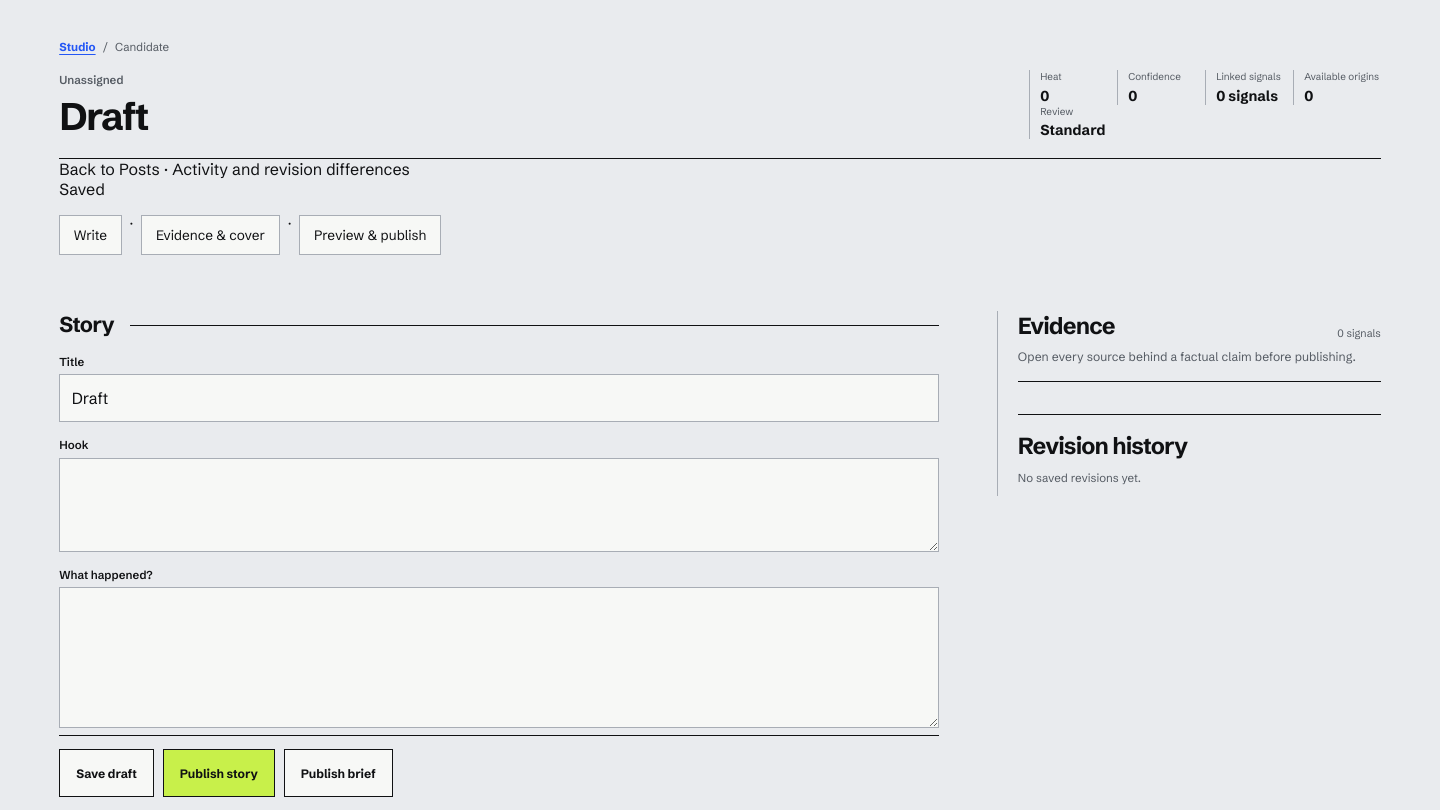
it: clears saved recovery and keeps publication errors in the editor
Step 1. Type "My writing" into the text box labelled "Hook" → x=499, y=505, box [59,458,939,552]
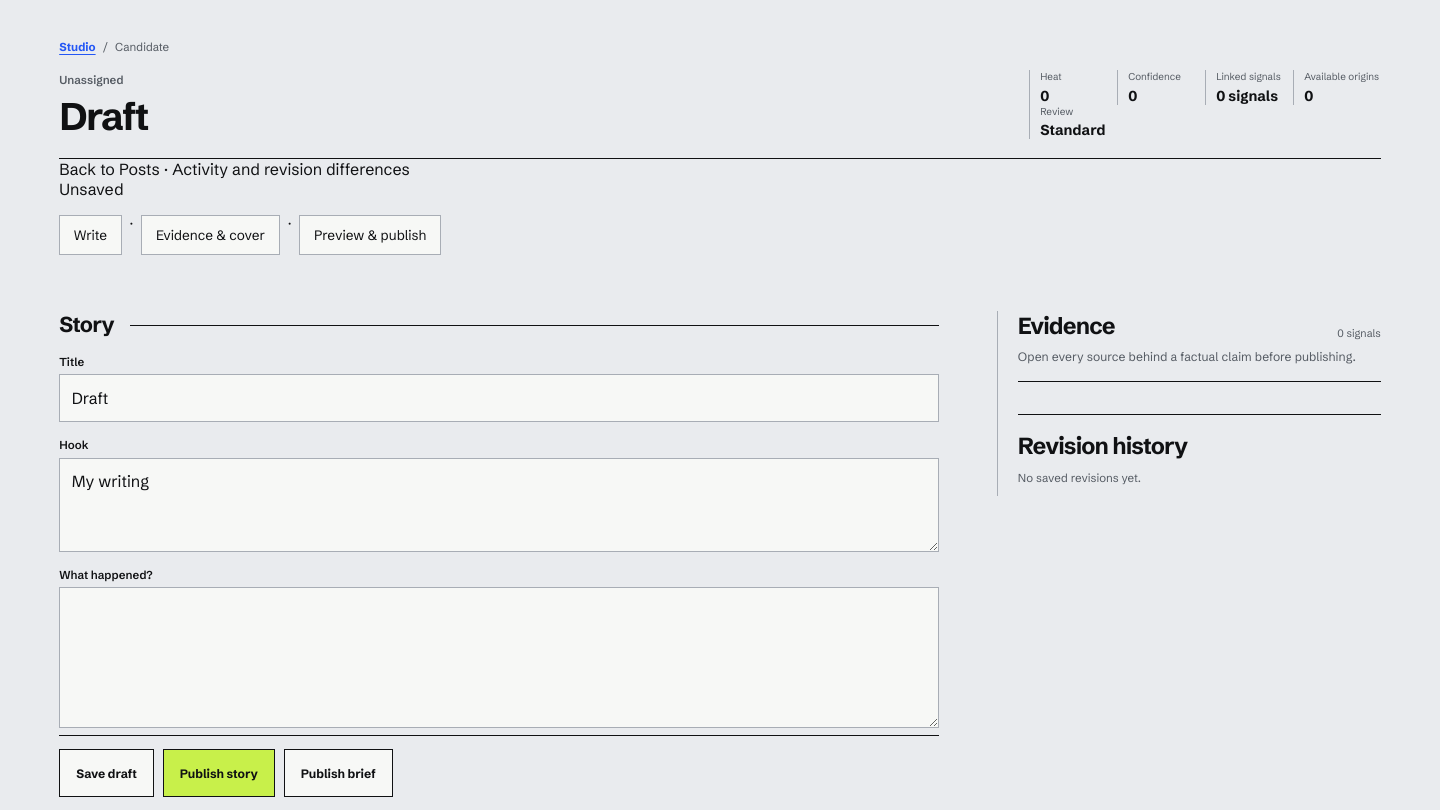
Step 2. Click the button "Save draft" → x=107, y=773, box [59,749,154,797]
(page scrolled)
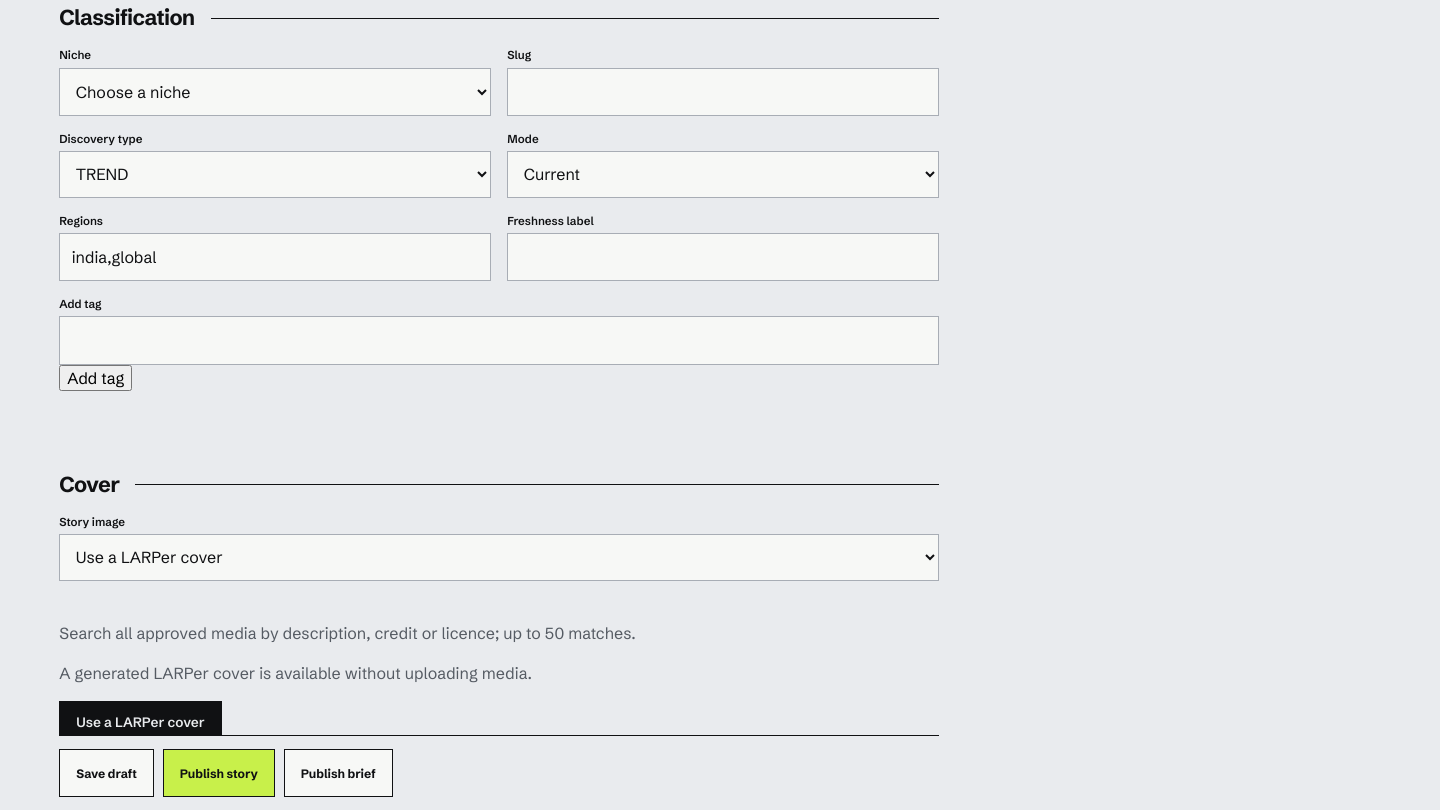
Brief submit bypasses native required fields so the real action can return review blockers.
Step 3. Submit the form named "Story editor"
(page scrolled)
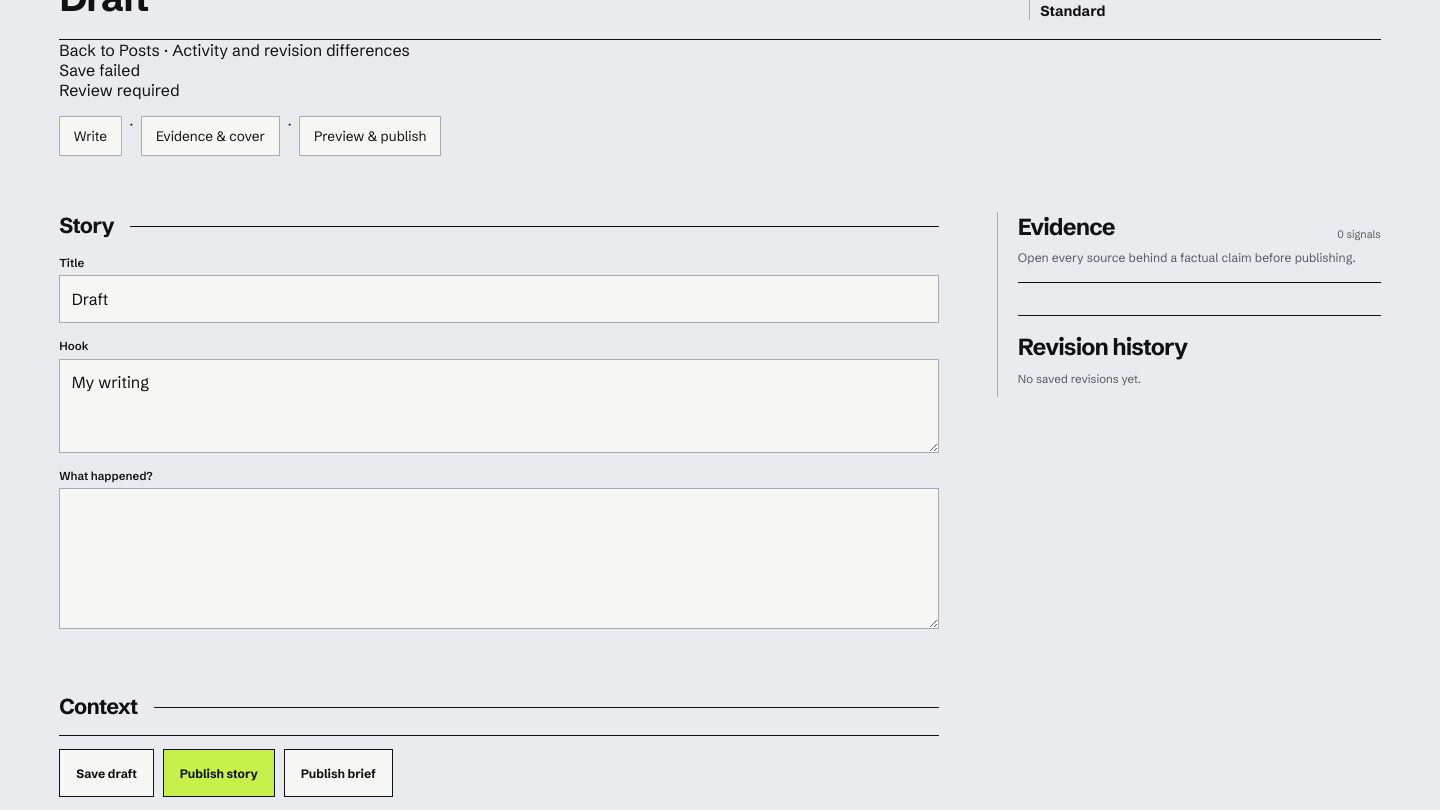
Expected: the message "Review required" is shown, [59,80,180,100]
